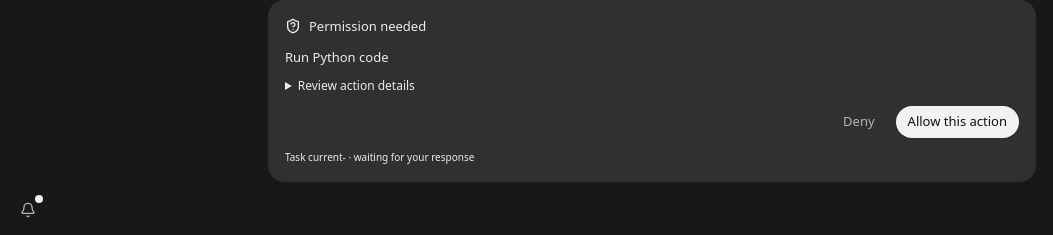
Test: shows expiry errors and never retries an old approval automatically
This screenshot has width=1053, height=235.
Click the button "Allow this action": (957, 122) 896,106 -> 1019,138
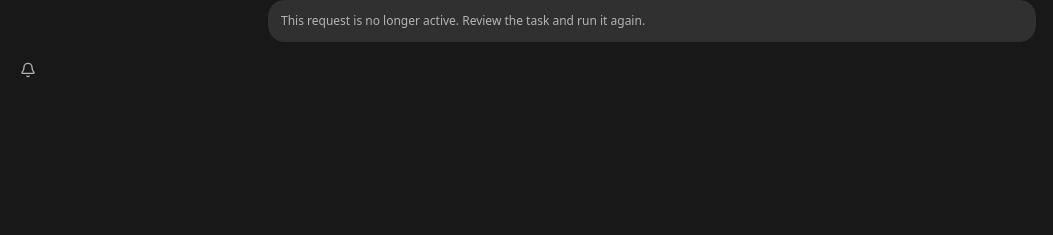
Expected: the message "This request is no longer active. Review the task and run it again." is shown, 268,0 -> 1036,42
